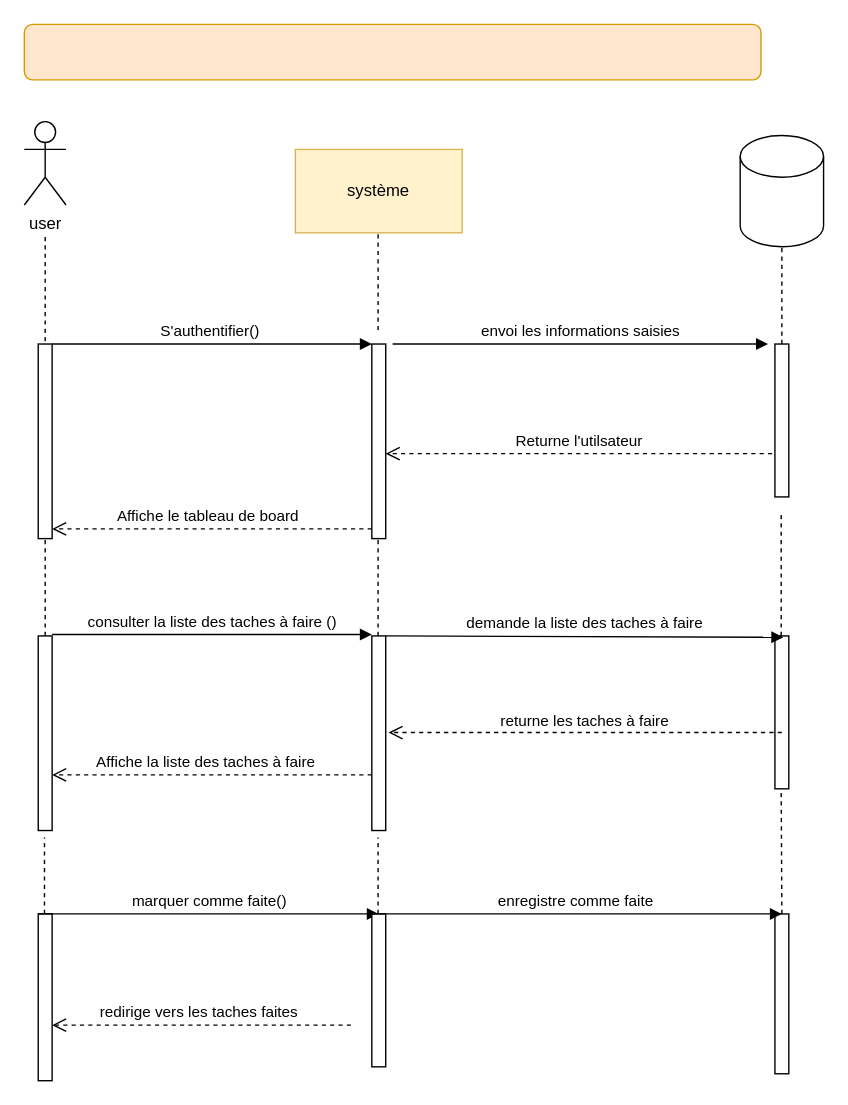
This 848x1105 diagram has some shape labels left out. Here are the shapes that lost their labels. From the top down, the centre of each, then its label:
At (392,51): "Diagramme de Séquence valider une tache".
At (781,190): "BDD".
